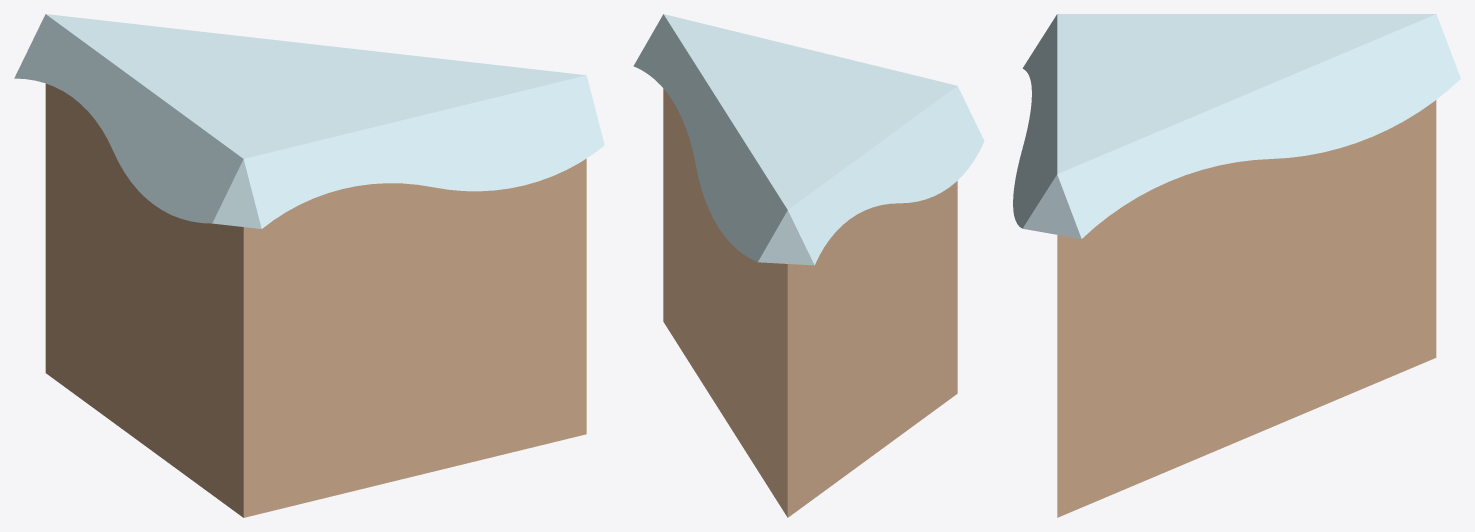
The model's file is blockSnowCornerLarge.glb.
The picture shows the model from 3 angles, left to right: view 1: azimuth 30°, elevation 25°; view 2: azimuth 150°, elevation 25°; view 3: azimuth 270°, elevation 25°; orthographic projection. The views are drawn at different scales.
Parts seen in each view (by area): view 1: blockSnowCornerLarge(Clone); view 2: blockSnowCornerLarge(Clone); view 3: blockSnowCornerLarge(Clone).
Boxes of the visible parts, left/top/right/bottom form: blockSnowCornerLarge(Clone): left=14, top=14, right=604, bottom=517; blockSnowCornerLarge(Clone): left=633, top=14, right=984, bottom=517; blockSnowCornerLarge(Clone): left=1013, top=14, right=1460, bottom=517.
Bounding box in the file's own units: 1.18 × 1 × 1.18.
